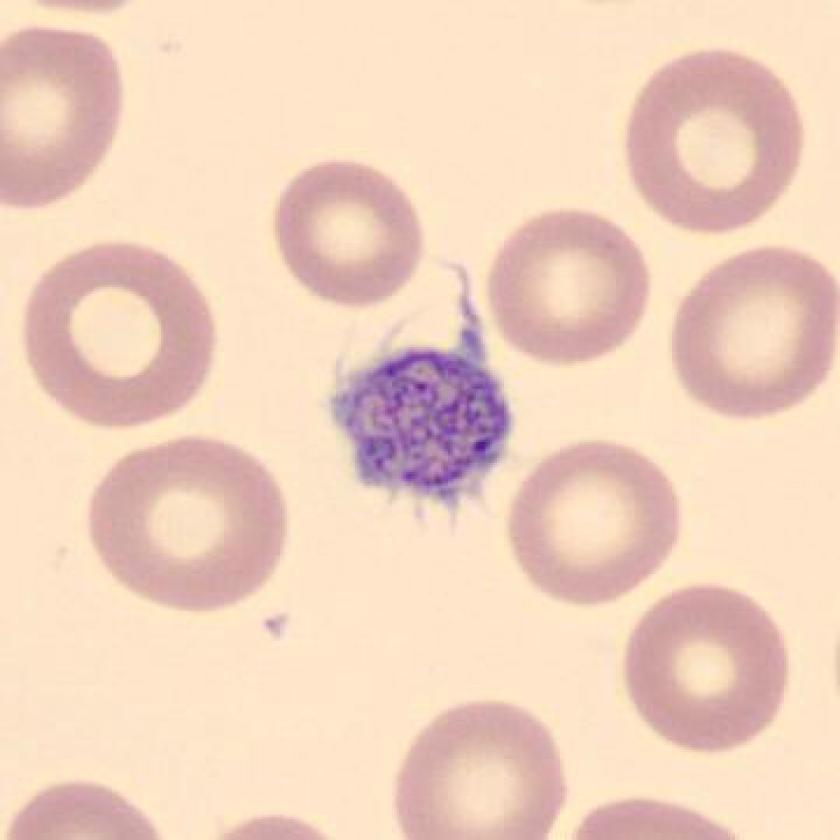platelets: (319, 337, 529, 517)
